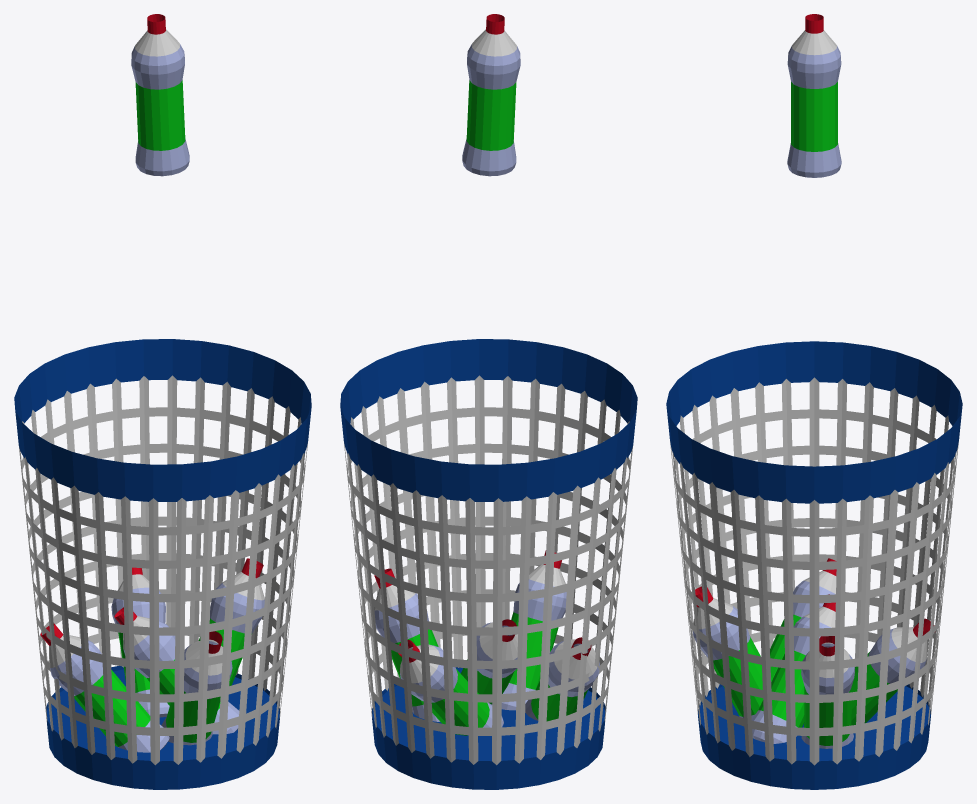
The model's file is DustbinWithCan_000006.obj.
3 views of the same model, side by side, from view 1: azimuth 30°, elevation 25°; view 2: azimuth 150°, elevation 25°; view 3: azimuth 270°, elevation 25° (orthographic).
Parts seen in each view (by area): view 1: Cylinder, Plane.006, Plane.005, Plane.001, Plane.004, Plane.003, Plane.002; view 2: Cylinder, Plane.006, Plane.001, Plane.002, Plane.005, Plane.003, Plane.004; view 3: Cylinder, Plane.006, Plane.001, Plane.004, Plane.003, Plane.002, Plane.005.
Part boxes in pixels (x1,y1,x2,y2): Cylinder: (14,339,311,789); Plane.006: (131,14,189,176); Plane.005: (40,623,169,752); Plane.001: (161,631,232,745); Plane.004: (114,607,239,734); Plane.003: (198,558,264,685); Plane.002: (111,567,169,717); Cylinder: (340,339,637,789); Plane.006: (462,14,520,176); Plane.001: (491,550,566,710); Plane.002: (398,639,503,735); Plane.005: (525,637,599,721); Plane.003: (374,568,439,721); Plane.004: (461,619,517,704); Cylinder: (666,341,962,789); Plane.006: (787,14,841,177); Plane.001: (693,586,772,719); Plane.004: (751,594,835,743); Plane.003: (801,636,854,748); Plane.002: (851,618,935,725); Plane.005: (770,558,836,678).
Size of the model in its own units: 2.6 by 6.99 by 2.6.
